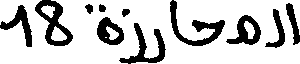1: (0, 3, 33, 48)
8: (35, 0, 74, 47)
ا: (286, 1, 298, 46), (167, 0, 179, 42)
ة: (84, 1, 125, 44)
ح: (190, 17, 223, 46)
ر: (144, 27, 165, 63)
ز: (122, 7, 146, 63)
ل: (270, 7, 285, 49)
م: (235, 13, 261, 46)
